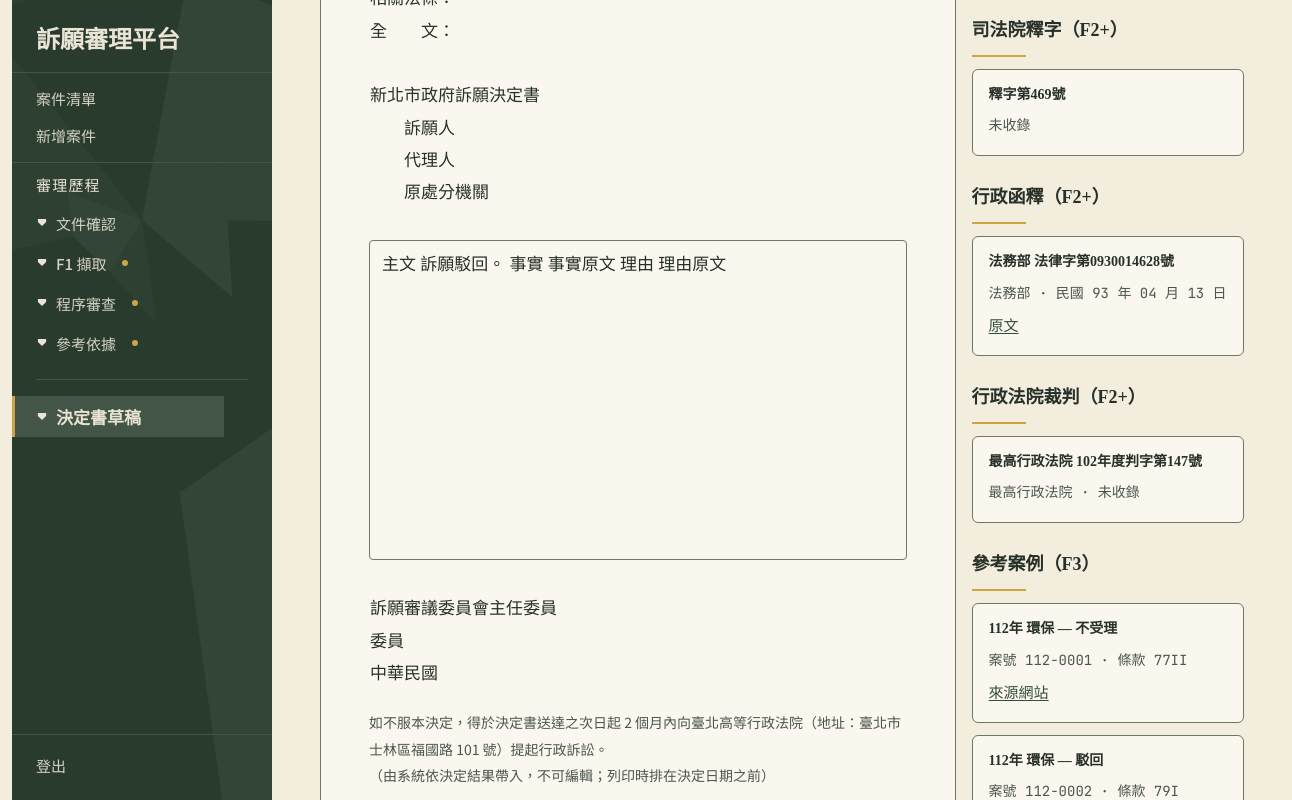
Test: 案件詳情 › 切換階段再切回,草稿未儲存內容存活
(page scrolled)
Type " 補充一段" into the text box named "決定書全文". click: {"x": 638, "y": 400}
box: [369,240,907,560]
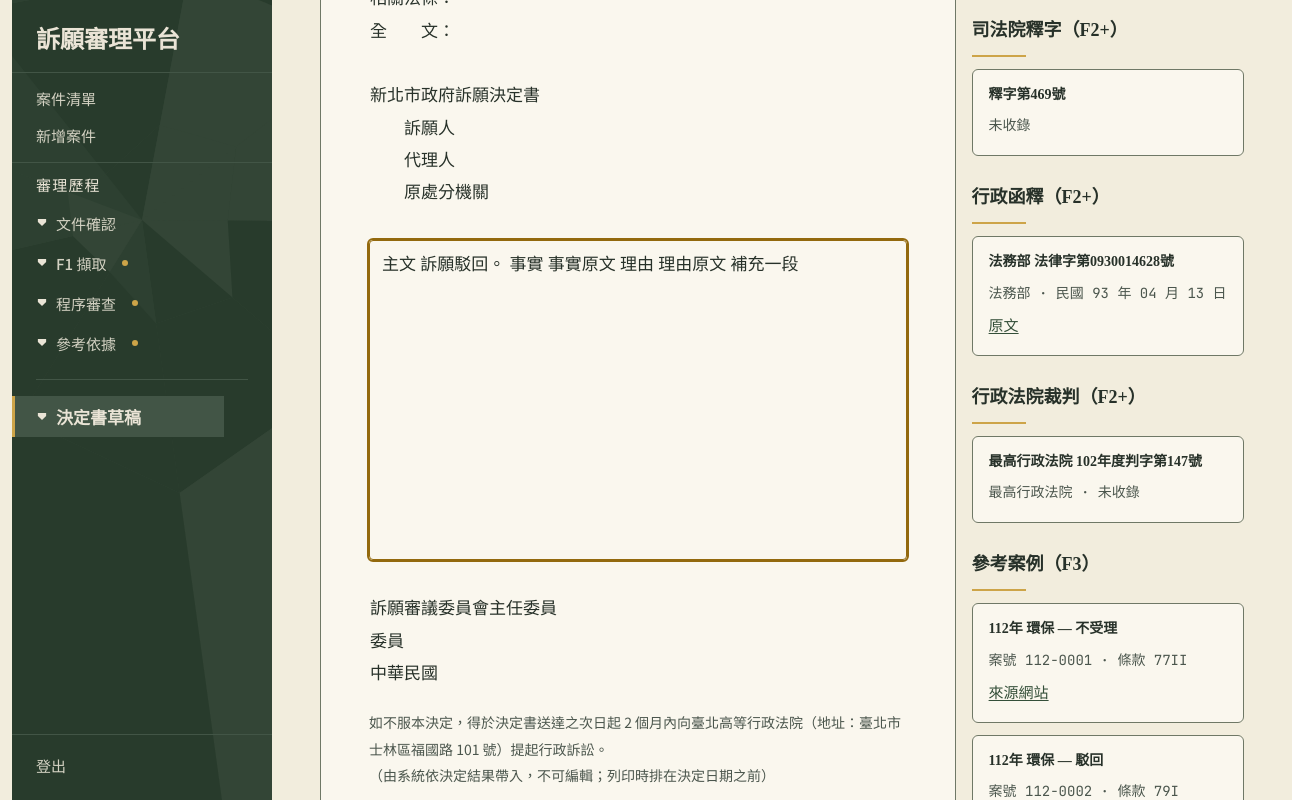
Click the button "參考依據". click: {"x": 118, "y": 343}
box: [12,323,224,363]
(page scrolled)
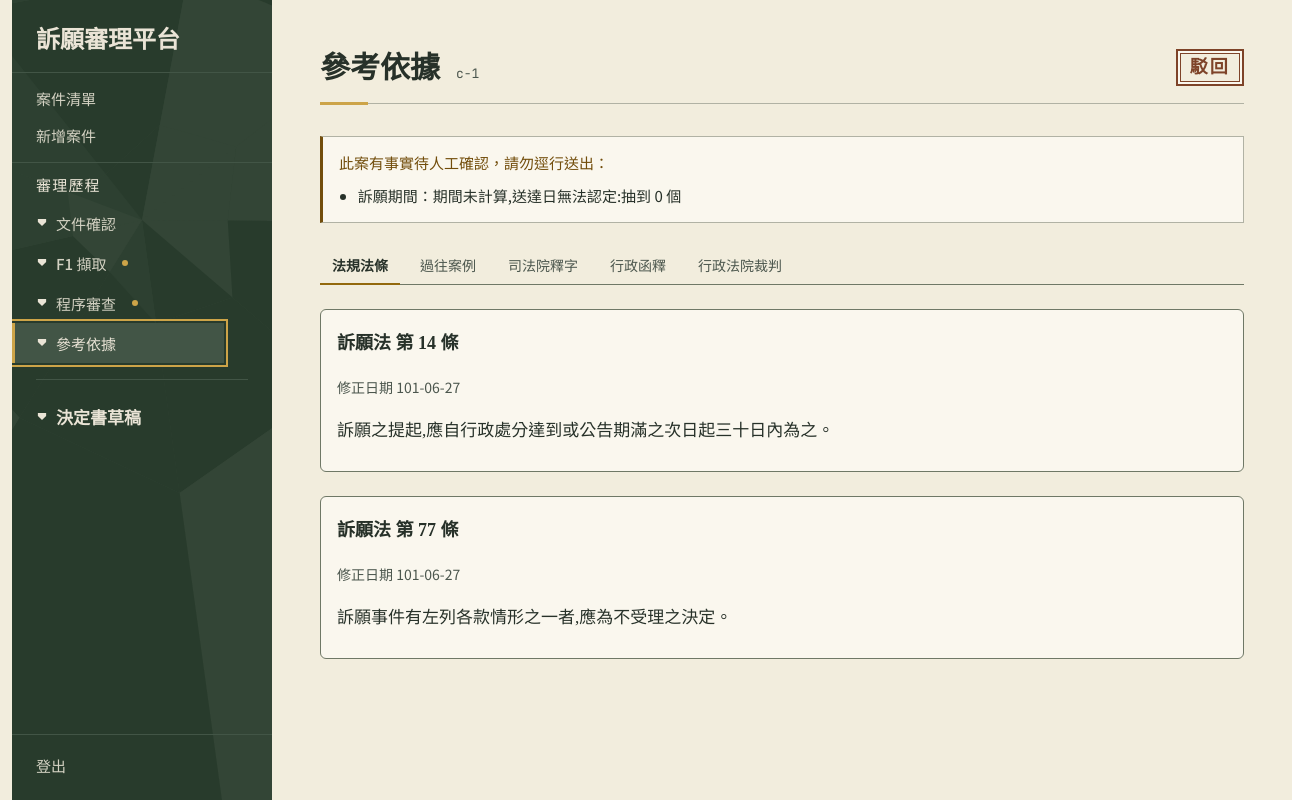
Click the button "F1 擷取". click: {"x": 118, "y": 263}
box: [12,243,224,283]
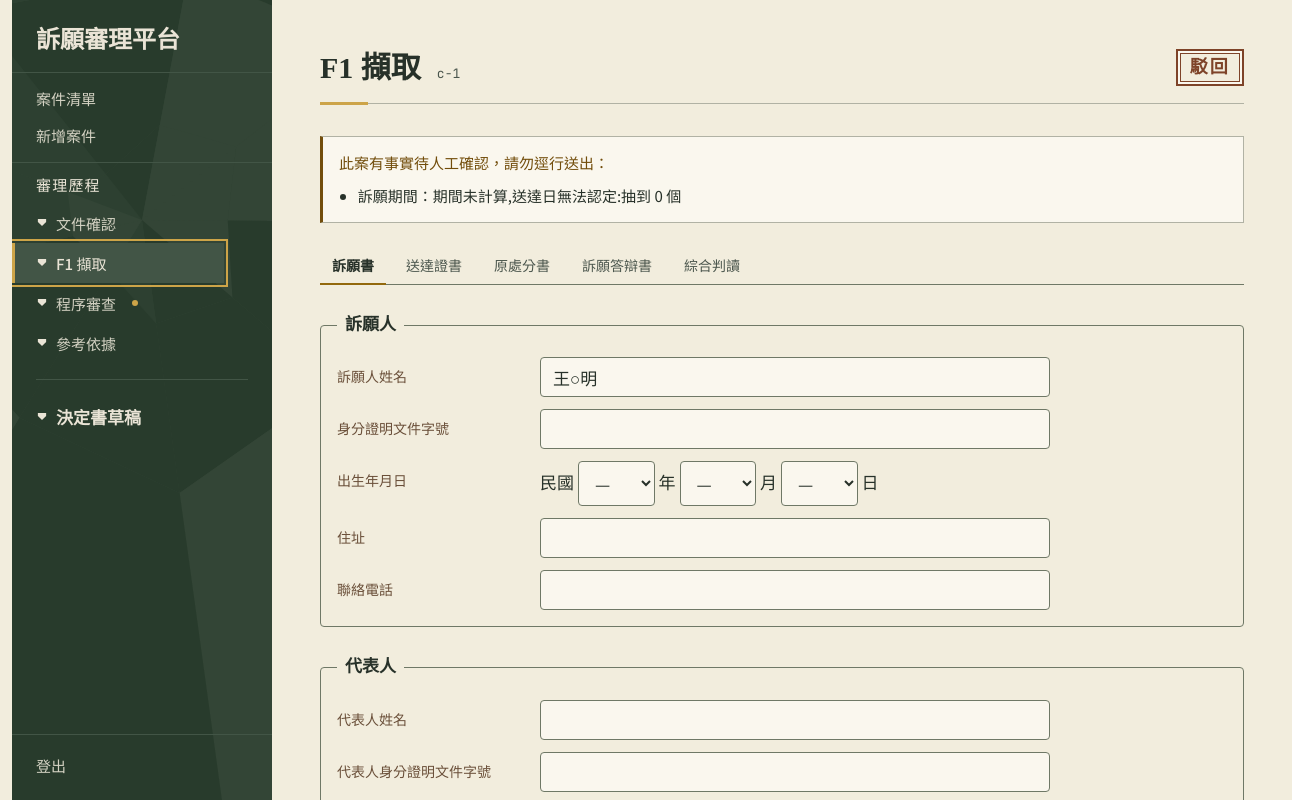
Click the button "決定書草稿". click: {"x": 118, "y": 417}
box: [12,396,224,437]
(page scrolled)
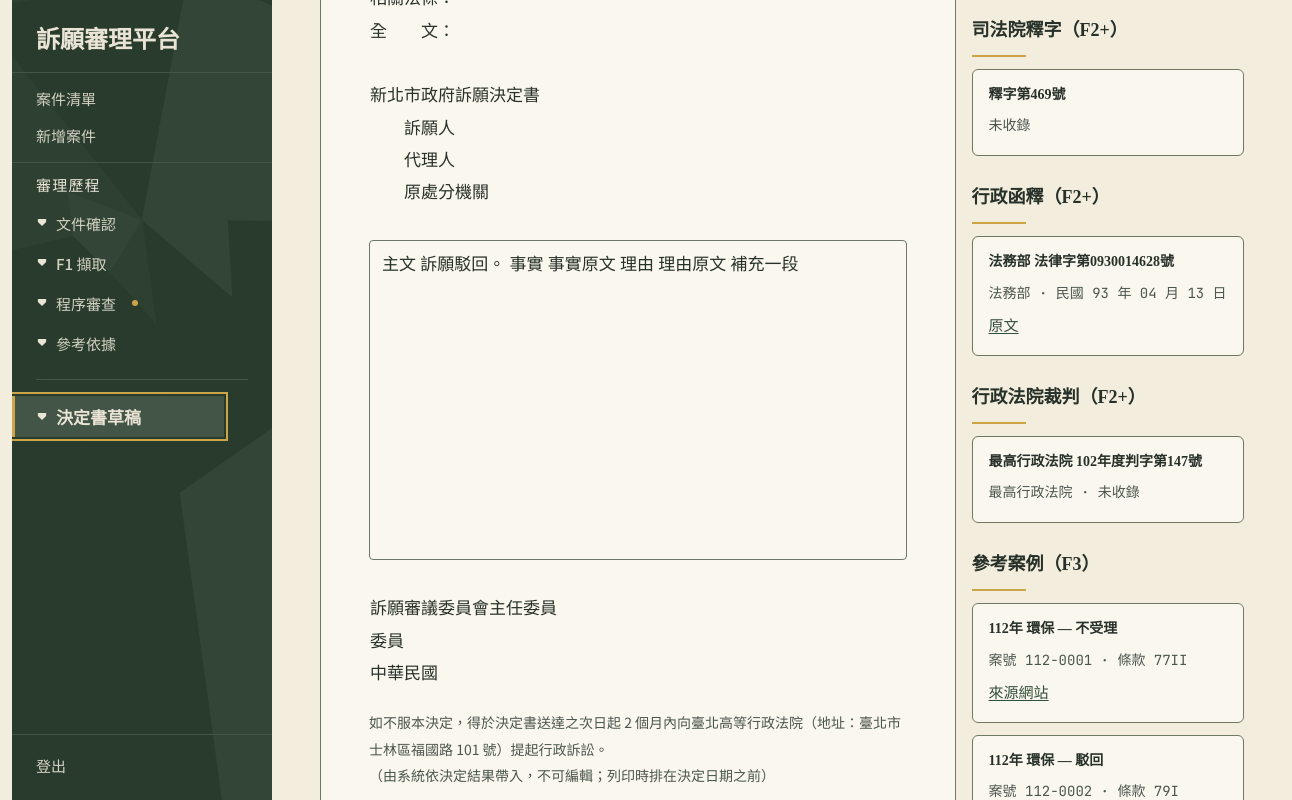
Check: the text box named "決定書全文" holds "主文 訴願駁回。 事實 事實原文 理由 理由原文 補充一段", box [369,240,907,560]
